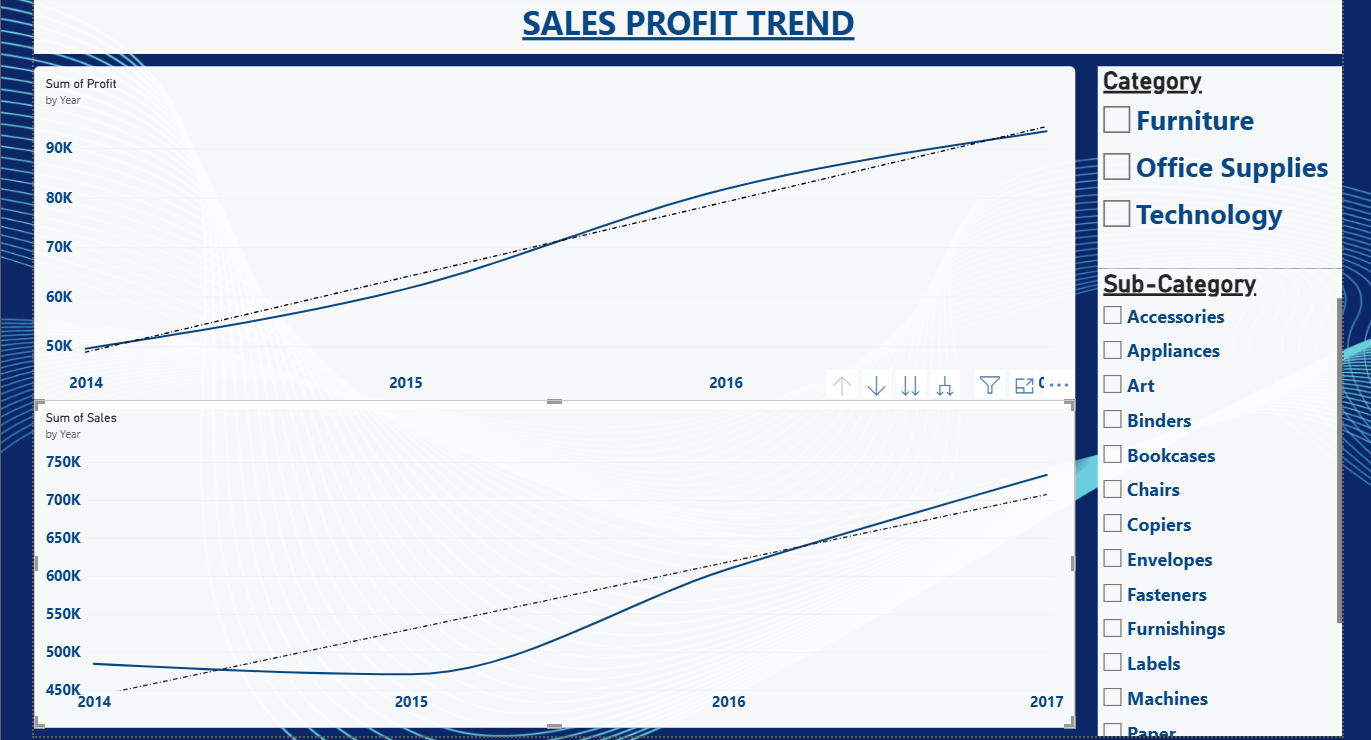

What the dashboard file says about the page in this screenshot:
{"tool":"powerbi","page":{"name":"business trend","canvas":[1920,1080],"ordinal":2},"visuals":[{"type":"lineChart","fields":{"Category":["Orders.Order Date.Variation.Date Hierarchy.Year","Orders.Order Date.Variation.Date Hierarchy.Quarter","Orders.Order Date.Variation.Date Hierarchy.Month","Orders.Order Date.Variation.Date Hierarchy.Day"],"Y":["Sum(Orders.Sales)"]},"box":[0,599.8,1527.9,480.6],"z":0},{"type":"lineChart","fields":{"Category":["Orders.Order Date.Variation.Date Hierarchy.Year","Orders.Order Date.Variation.Date Hierarchy.Quarter","Orders.Order Date.Variation.Date Hierarchy.Month","Orders.Order Date.Variation.Date Hierarchy.Day"],"Y":["Sum(Orders.Profit)"]},"box":[0,97.2,1527.9,502.6],"z":1000},{"type":"slicer","fields":{"Values":["Product.Category"]},"box":[1560.9,97.2,359.5,297.1],"z":2000},{"type":"slicer","fields":{"Values":["Product.Sub-Category"]},"box":[1560.9,394.4,359.5,686],"z":3000},{"type":"textbox","box":[0,0,1920.5,78.9],"z":4000}]}

Visuals, with their boxes on the page's 1920x1080 design canvas (x1, y1, x2, y2). These are canvas units, not pixel positions in the 1371x740 screenshot, which may show the page scaled, cropped or inside an application window:
lineChart - Orders.Order Date.Variation.Date Hierarchy.Year x Orders.Order Date.Variation.Date Hierarchy.Quarter: box=[0, 600, 1528, 1080]
lineChart - Orders.Order Date.Variation.Date Hierarchy.Year x Orders.Order Date.Variation.Date Hierarchy.Quarter: box=[0, 97, 1528, 600]
slicer - Product.Category: box=[1561, 97, 1920, 394]
slicer - Product.Sub-Category: box=[1561, 394, 1920, 1080]
textbox: box=[0, 0, 1920, 79]
